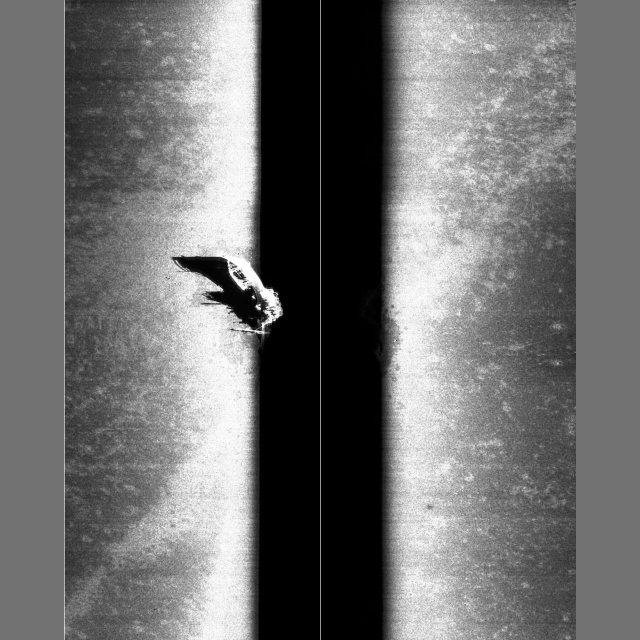Shipwreck: (225, 256, 284, 350)
